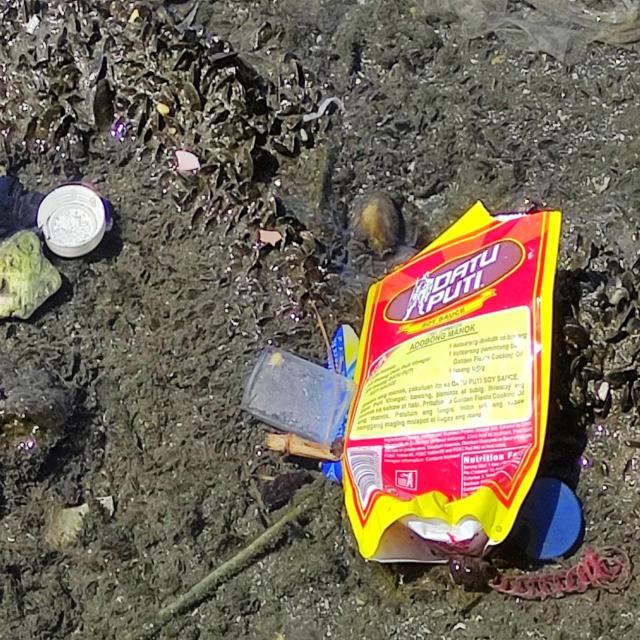plastic_waste: (341, 205, 560, 568), (39, 185, 108, 259)
